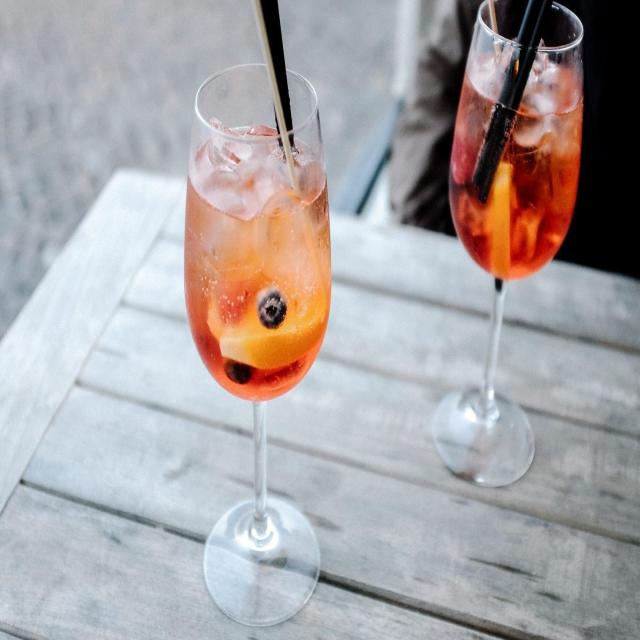glass-wine: (182, 60, 333, 628), (433, 0, 585, 487)
